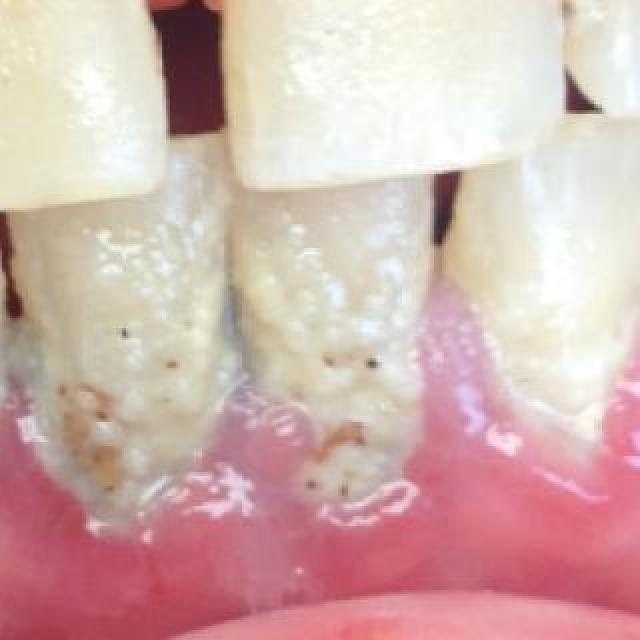calculus: (203, 246, 453, 472), (0, 286, 254, 502), (0, 0, 124, 138), (212, 0, 518, 50), (0, 310, 12, 492)
plaque: (488, 345, 640, 491), (582, 0, 640, 84)
spacing: (102, 0, 270, 196), (403, 138, 501, 346), (0, 168, 52, 414)
